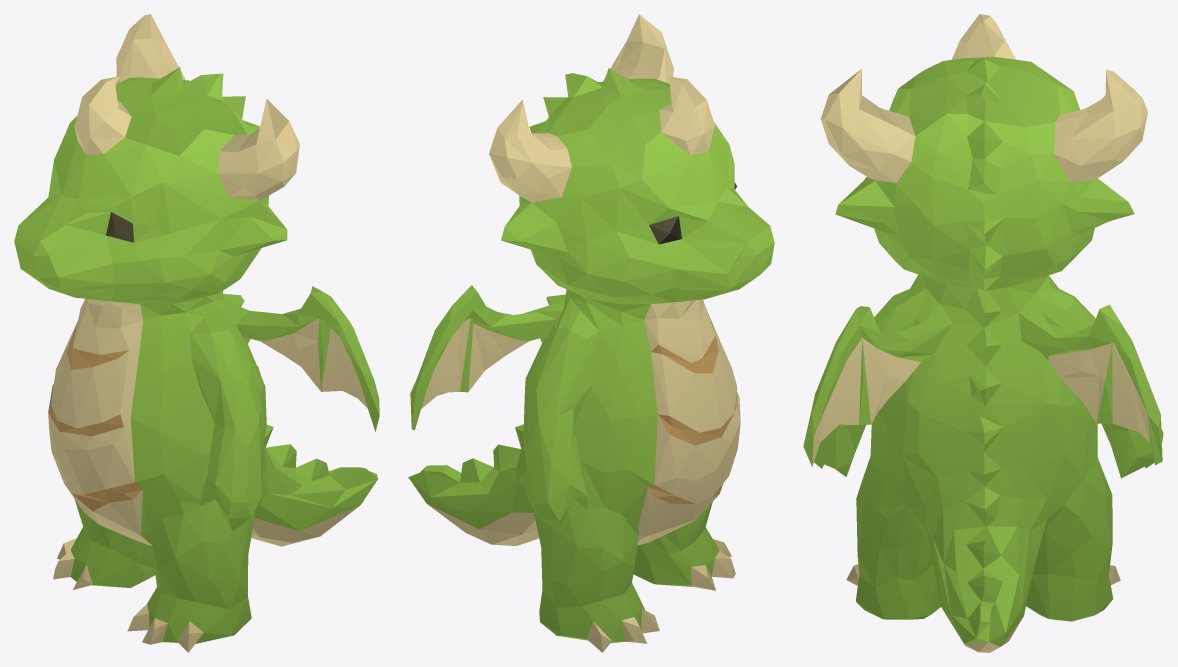
3 renders of one model, left to right at view 1: azimuth 30°, elevation 25°; view 2: azimuth 150°, elevation 25°; view 3: azimuth 270°, elevation 25°, orthographic. The views are drawn at different scales.
Parts seen in each view (by area): view 1: tmppsau561x.ply; view 2: tmppsau561x.ply; view 3: tmppsau561x.ply.
Part boxes in pixels (x1,y1,x2,y2): tmppsau561x.ply: (14, 14, 379, 652); tmppsau561x.ply: (408, 14, 774, 652); tmppsau561x.ply: (803, 14, 1163, 652).
Size of the model in its own units: 1.36 by 1.95 by 1.14.
Materials: 1 (1 with a texture image).
